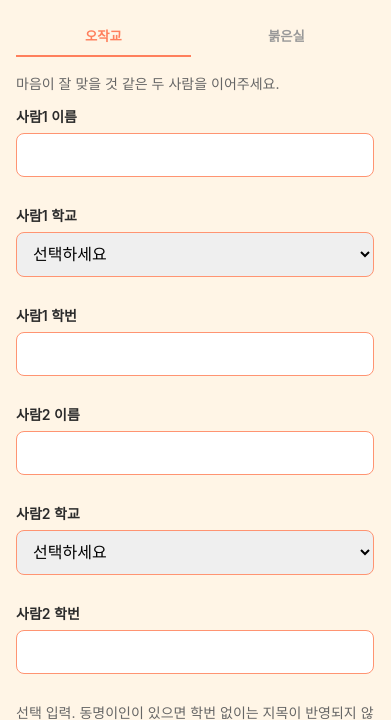
Test: Game › 붉은실 탭 클릭 시 붉은실 화면으로 전환
The image size is (391, 720).
What coordinates should you click on to do the following:
click the tab "붉은실"
I would click on:
 (286, 36)
Its box is [199,16,374,57].
(page scrolled)
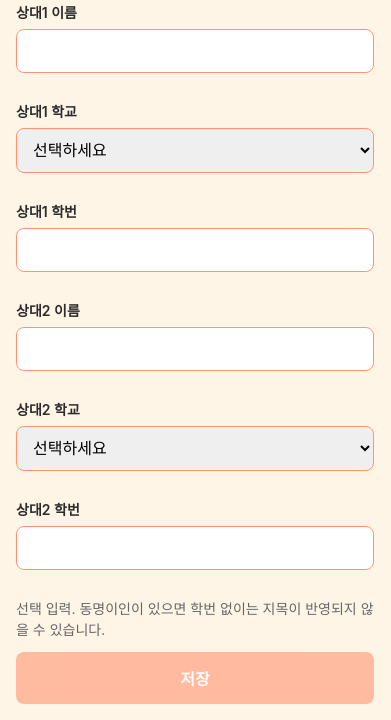
Expected: the button "저장" is shown, [16,652,374,704]
